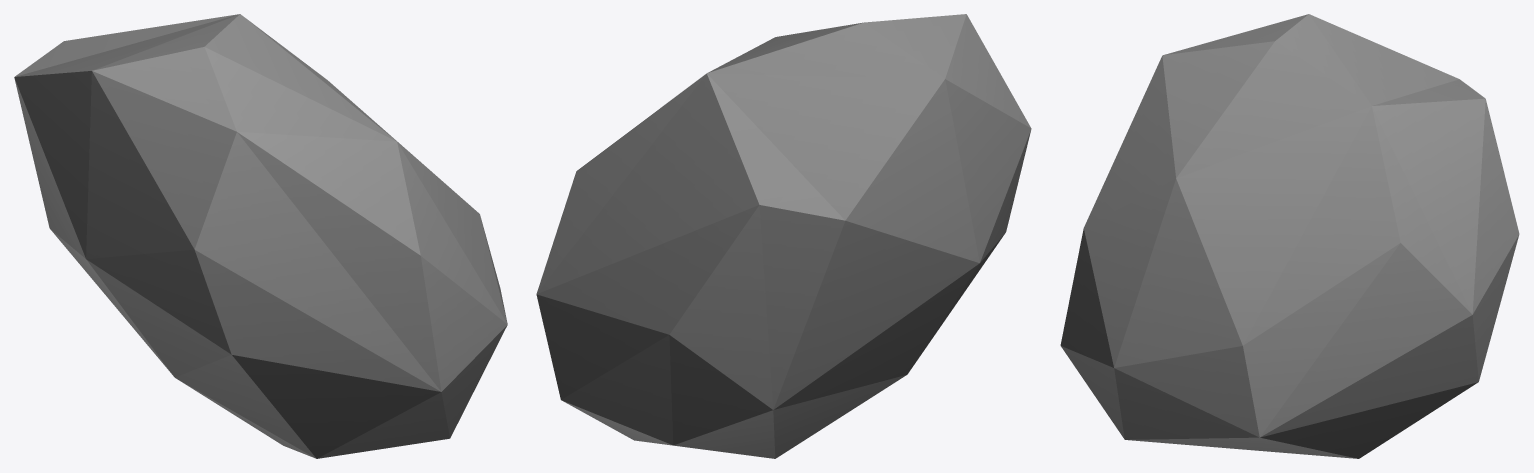
File: Rock_Small_8.fbx
3 renders of one model, left to right at view 1: azimuth 30°, elevation 25°; view 2: azimuth 150°, elevation 25°; view 3: azimuth 270°, elevation 25°, orthographic. The views are drawn at different scales.
Parts seen in each view (by area): view 1: Rock_Small_8; view 2: Rock_Small_8; view 3: Rock_Small_8.
Boxes of the visible parts, x1=… form: Rock_Small_8: x1=14, y1=14, x2=507, y2=458; Rock_Small_8: x1=536, y1=14, x2=1031, y2=458; Rock_Small_8: x1=1060, y1=14, x2=1519, y2=458.
Size of the model in its own units: 94.42 by 94.69 by 106.
